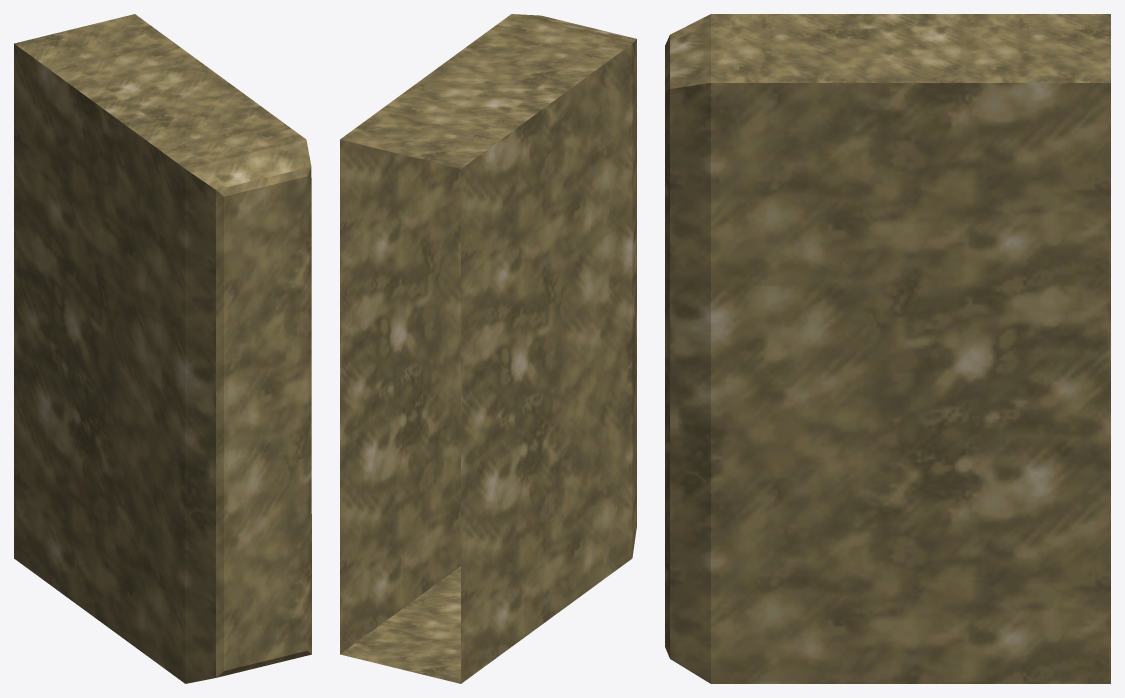
The model's file is ShutterDoorB_bake.dae.
3 renders of one model, left to right at view 1: azimuth 30°, elevation 25°; view 2: azimuth 150°, elevation 25°; view 3: azimuth 270°, elevation 25°, orthographic. The views are drawn at different scales.
Parts seen in each view (by area): view 1: m0; view 2: m0; view 3: m0.
Boxes of the visible parts, x1=… form: m0: x1=14, y1=14, x2=311, y2=683; m0: x1=340, y1=14, x2=636, y2=683; m0: x1=665, y1=14, x2=1110, y2=683.
Size of the model in its own units: 300 by 1220 by 820.
Materials: 2 (2 with a texture image).
